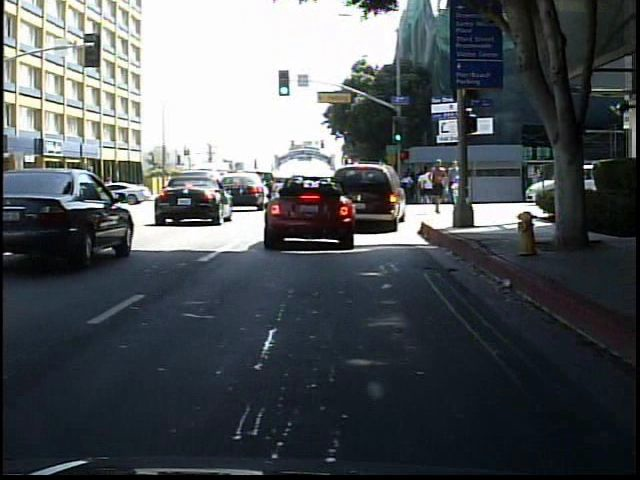person: (428, 158, 448, 217), (447, 173, 469, 211), (103, 176, 122, 204)
